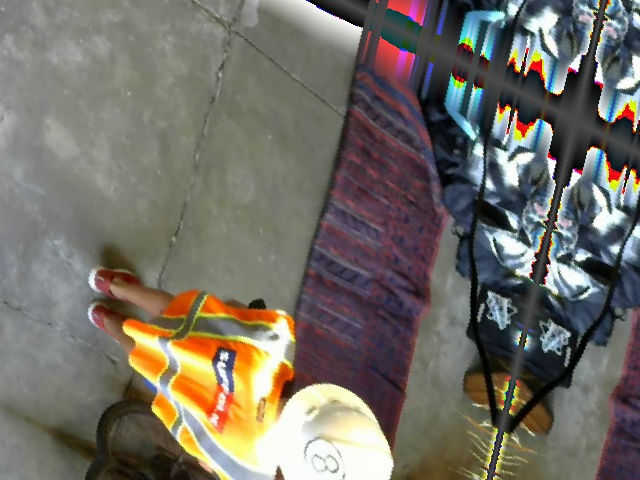eight: (297, 430, 350, 479)
